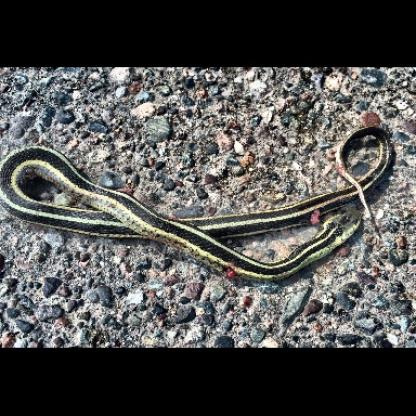Snake: (0, 112, 401, 282)
